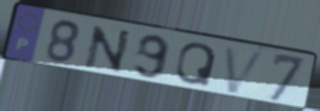7: (269, 51, 308, 104)
8: (44, 19, 82, 66)
9: (133, 33, 172, 80)
N: (83, 23, 134, 75)
Q: (173, 41, 219, 89)
V: (222, 44, 269, 96)
